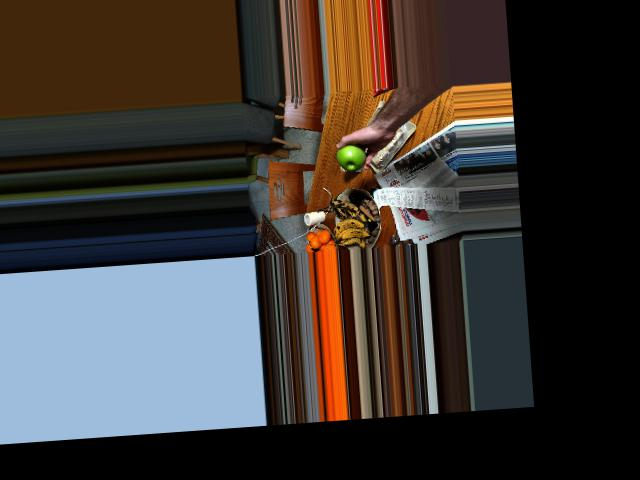apple: (334, 139, 369, 170)
